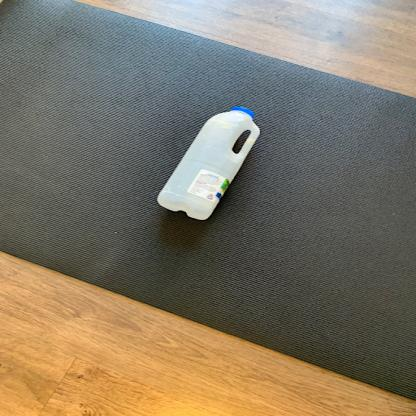trash: (156, 105, 262, 222)
